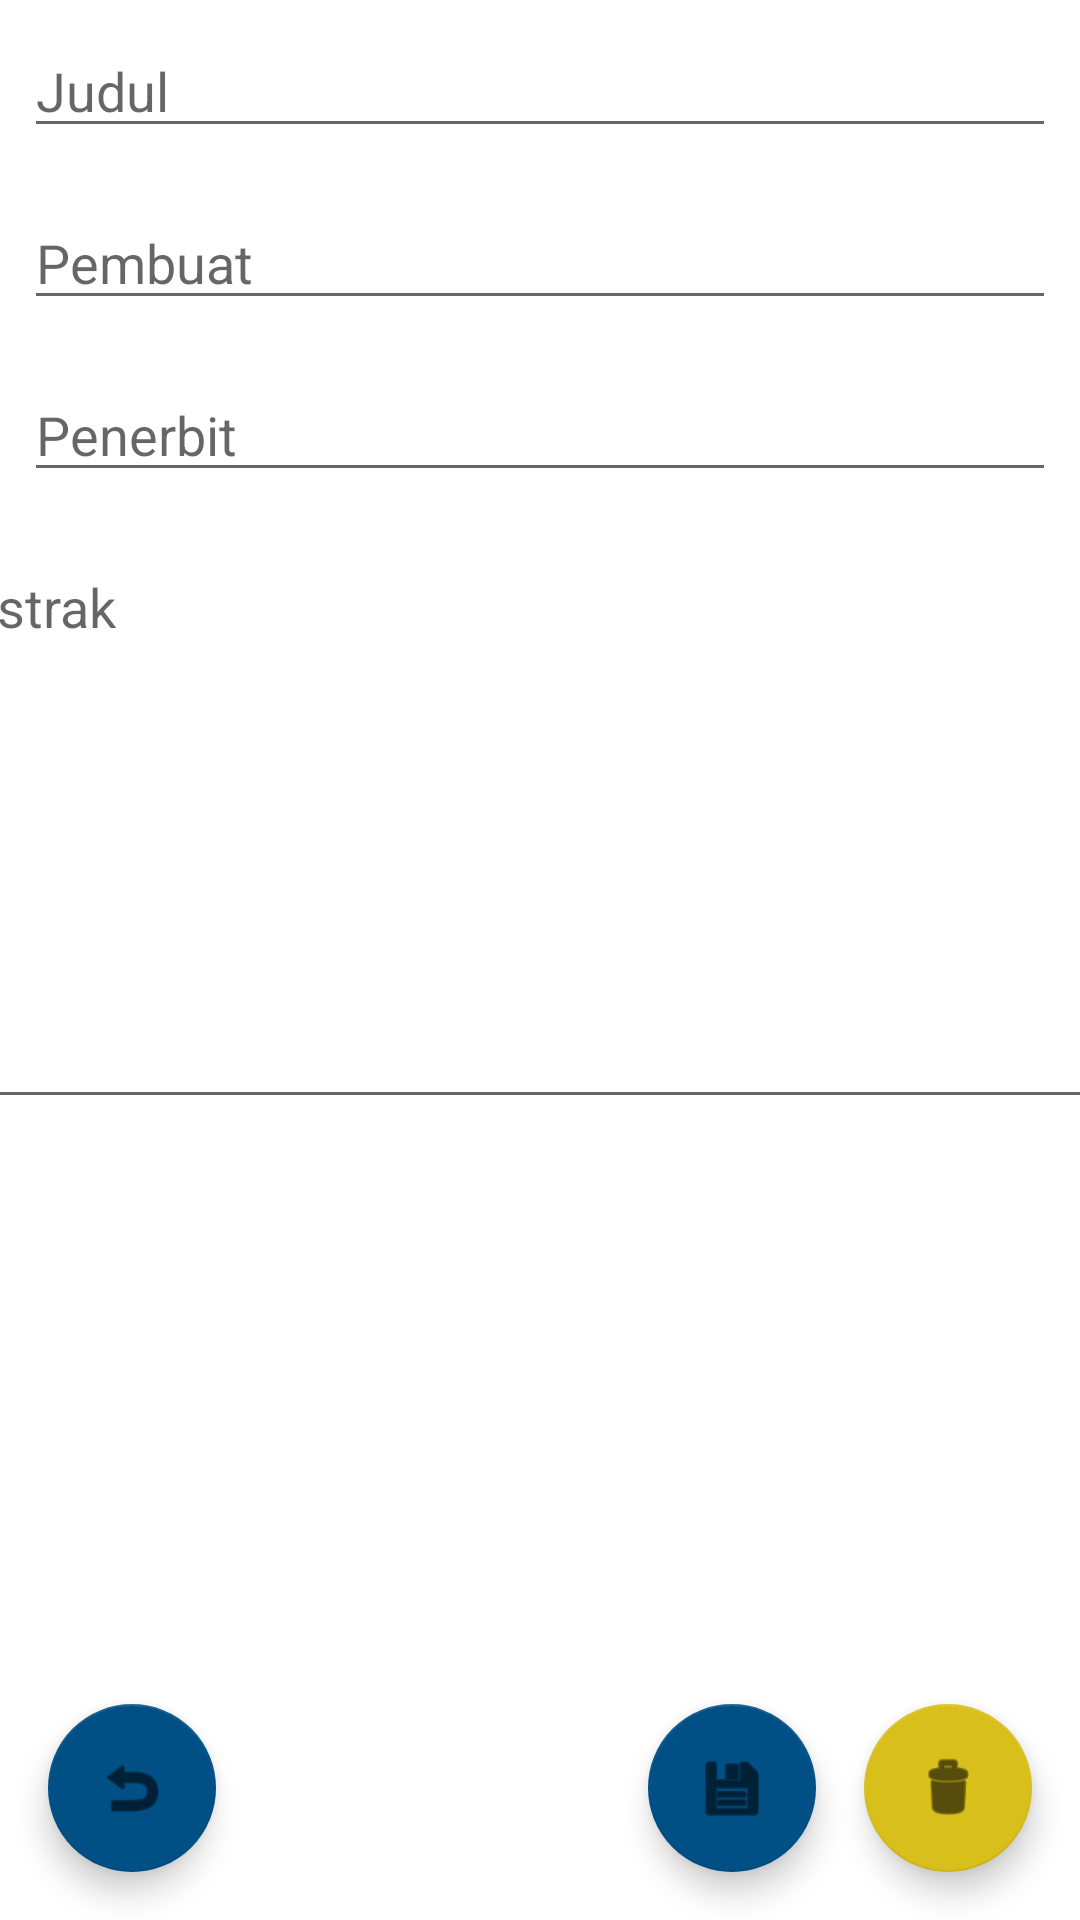

Icon click points for this 1080 x 1920 phone screenshot, format point (x, y):
delete: point (948, 1788)
revert: point (132, 1788)
save: point (732, 1788)
